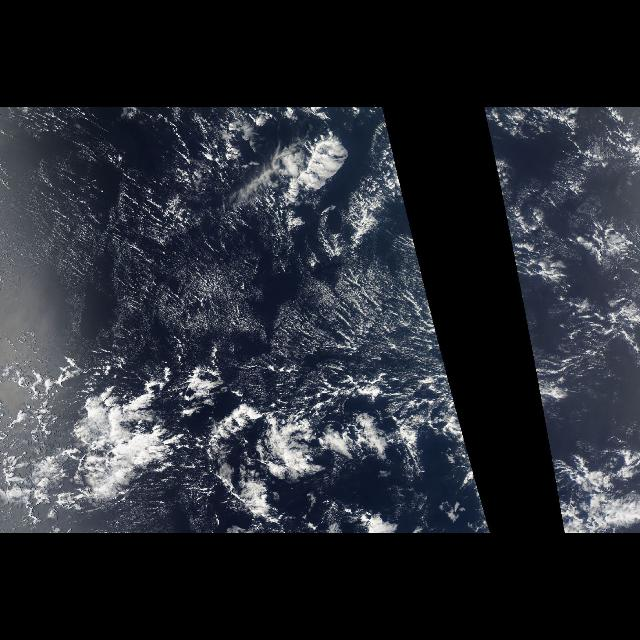Sugar: (3, 140, 455, 404)
